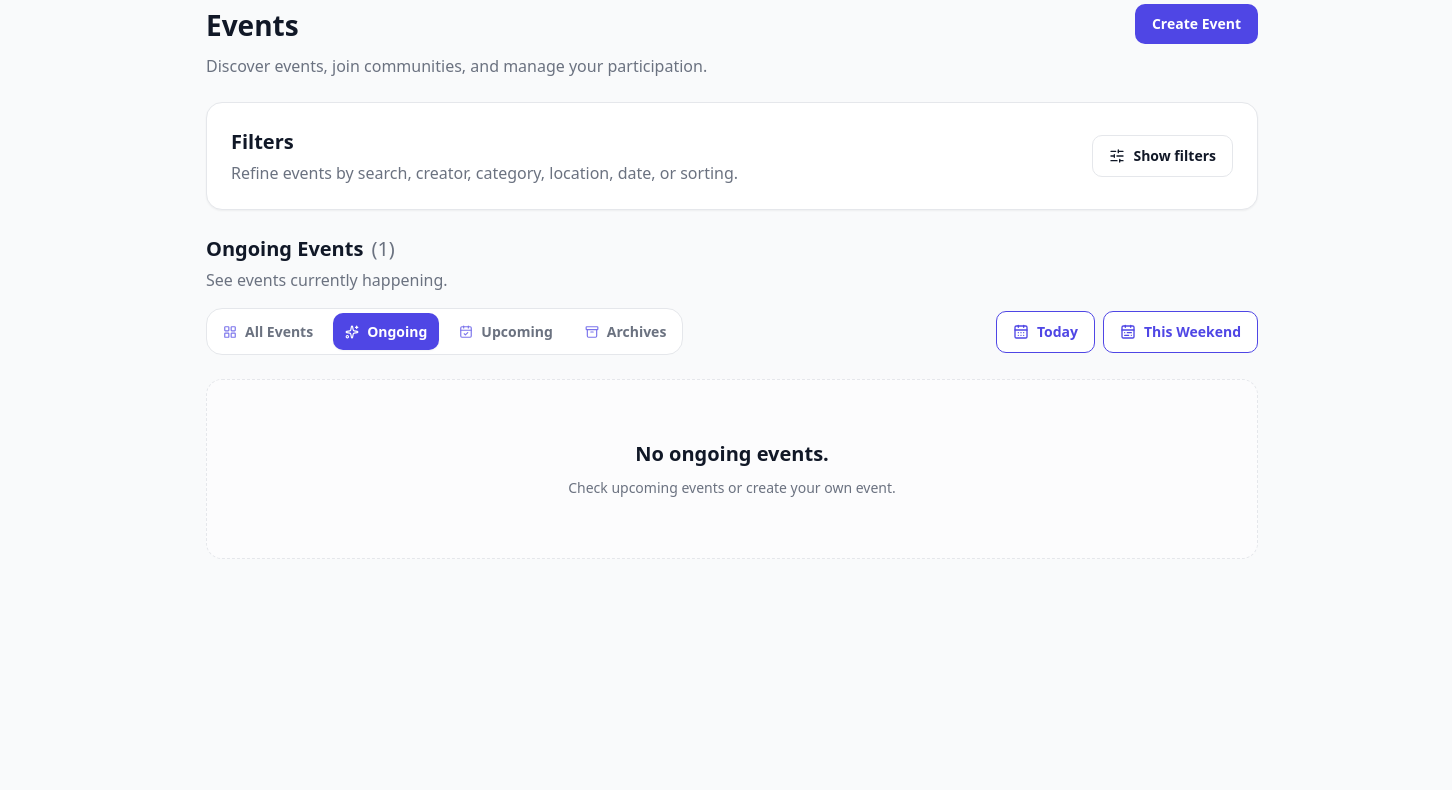
Test: EventsPage › updates URL when applying filters
The width and height of the screenshot is (1452, 790).
Expected: the heading "No ongoing events." is shown, [635,439,829,469]
Click the button "Show filters". click: (1163,156)
box: [1092,135,1233,177]
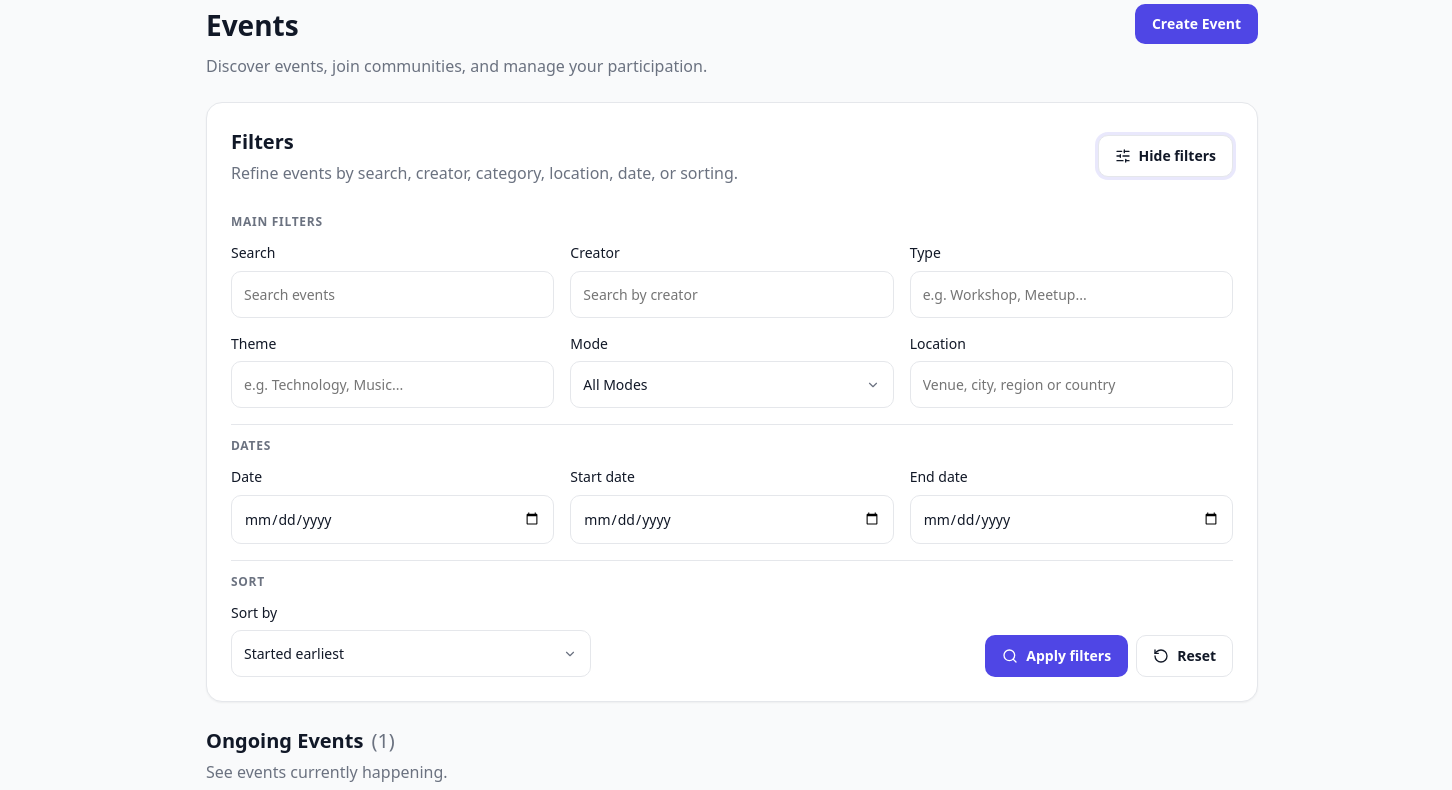
Type "music" into the field labelled "Search". click: (393,294)
box: [231,271,554,318]
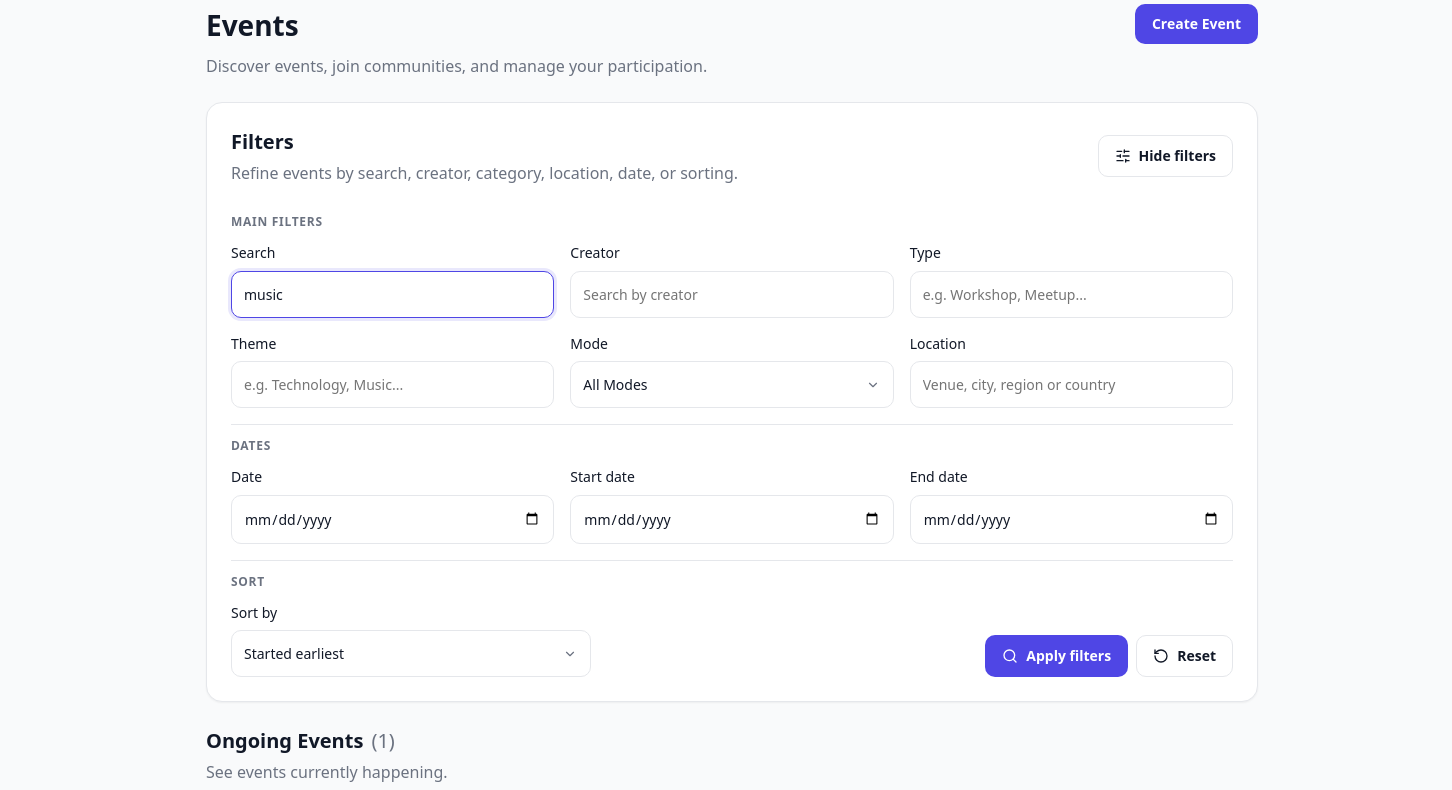
Click the button "Apply filters". click: (1057,656)
box: [985,635,1128,677]
(page scrolled)
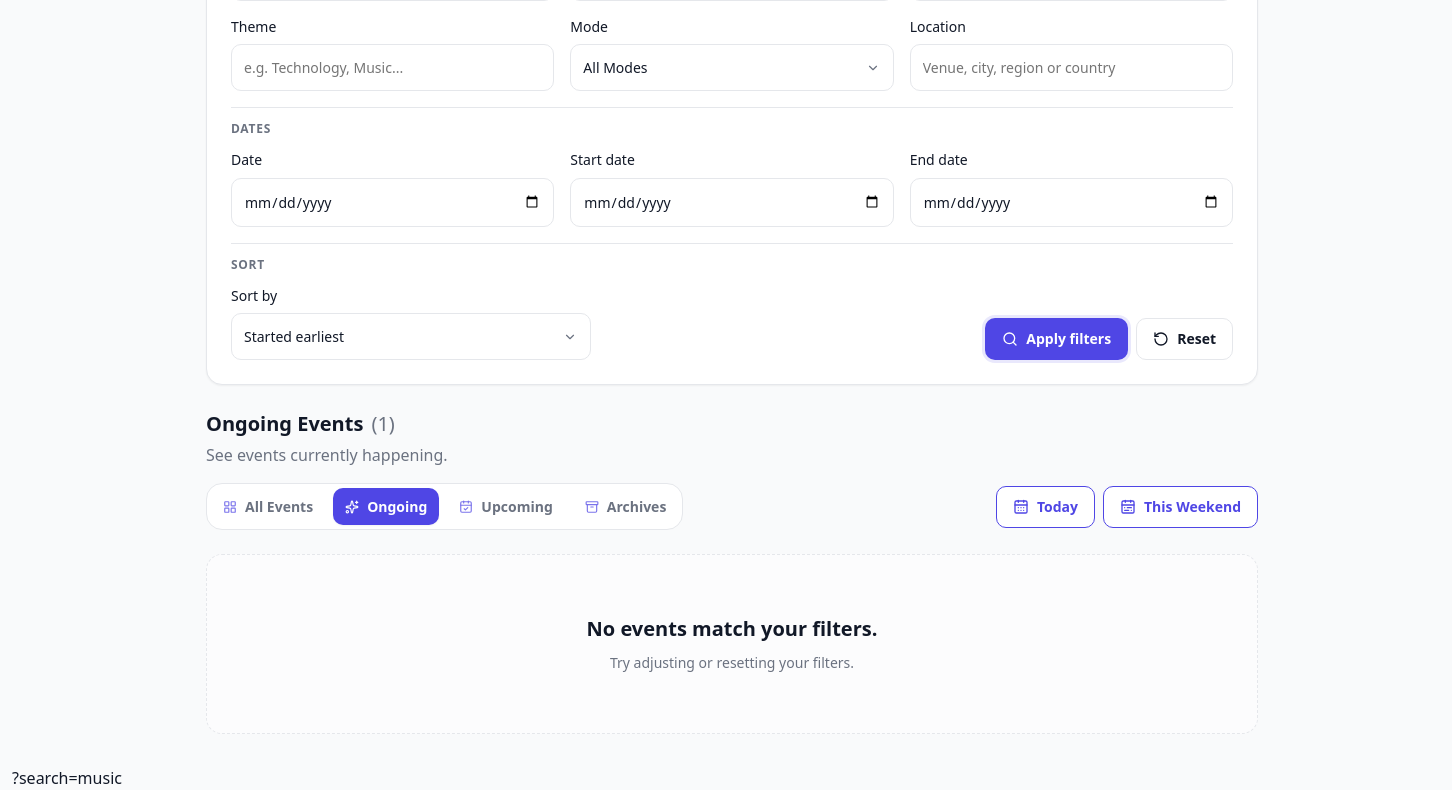
Now the text with test id "location-search" shows "search=music", box [12,767,122,789]
